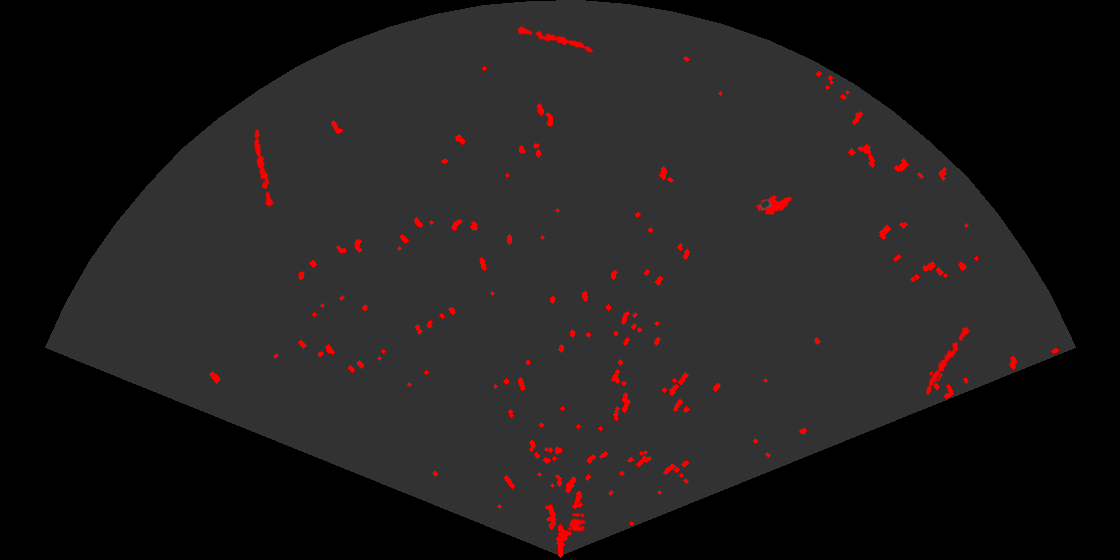AUV: (754, 193, 794, 217)
ball: (567, 511, 587, 533)
chain: (924, 317, 975, 397), (514, 24, 595, 54), (252, 127, 275, 210)
